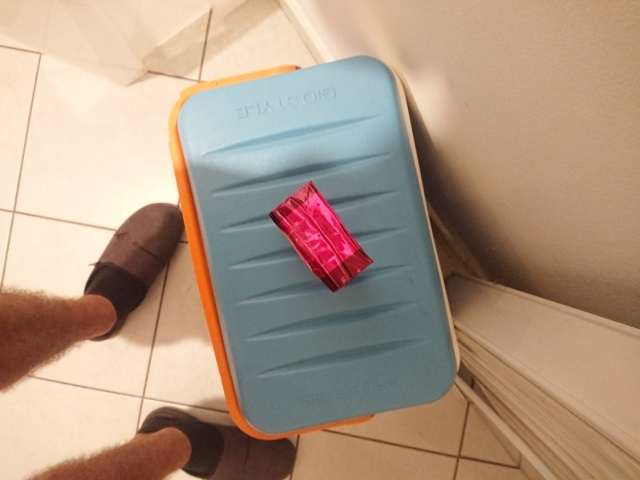Barcaffe Classic Original 225g: (266, 178, 375, 295)
